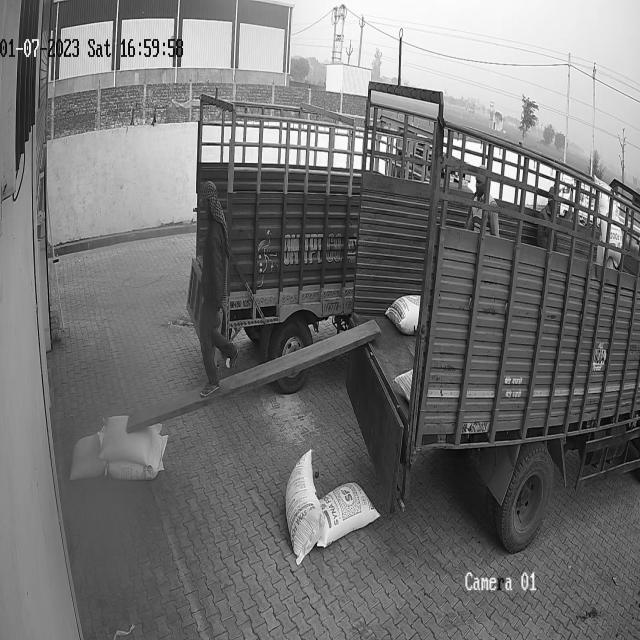sack: (285, 451, 323, 565), (317, 480, 380, 548), (98, 415, 161, 466), (104, 435, 168, 479), (68, 432, 108, 481)
